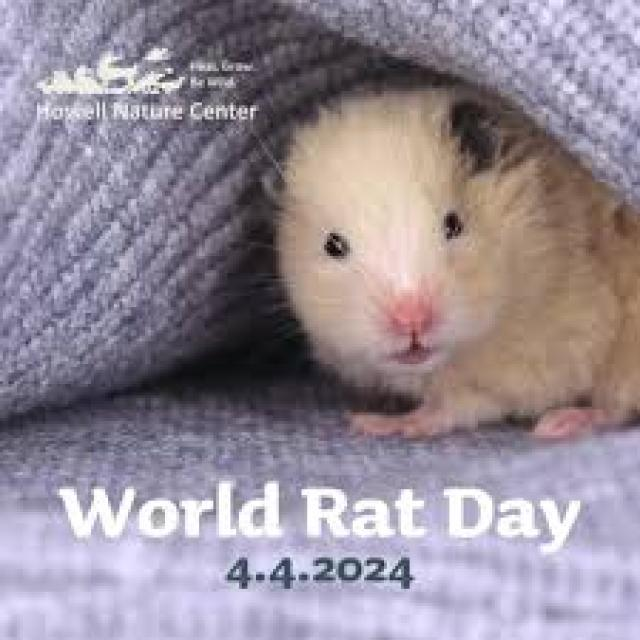Rat: (226, 38, 640, 447)
